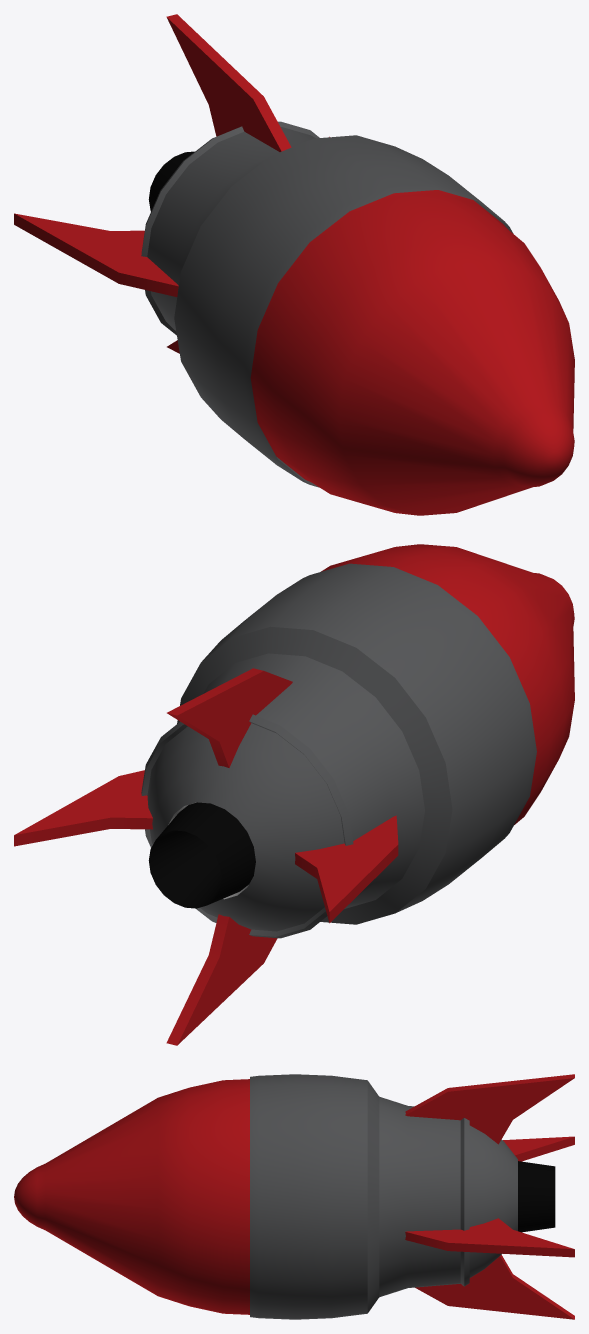
Rendered from Rocket_Launcher_Rocket (1).fbx.
3 views of the same model, one above another, from view 1: azimuth 30°, elevation 25°; view 2: azimuth 150°, elevation 25°; view 3: azimuth 270°, elevation 25° (orthographic). The views are drawn at different scales.
Parts seen in each view (by area): view 1: polySurface75; view 2: polySurface75; view 3: polySurface75.
Part boxes in pixels (box(x1,y1,x2,y2)): polySurface75: box(14, 14, 574, 515); polySurface75: box(14, 544, 574, 1045); polySurface75: box(14, 1074, 574, 1319).
Size of the model in its own units: 81.82 by 81.82 by 172.
